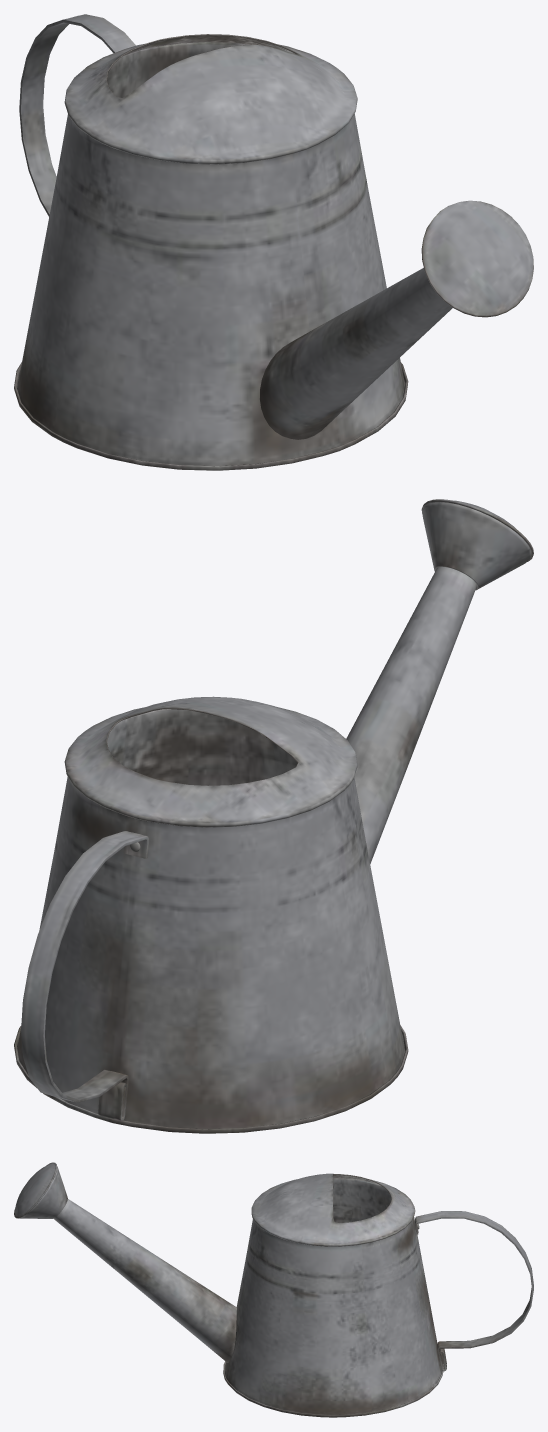
Rendered from watering_can_metal_01.glb.
The picture shows the model from 3 angles, top to bottom: view 1: azimuth 30°, elevation 25°; view 2: azimuth 150°, elevation 25°; view 3: azimuth 270°, elevation 25°; orthographic projection. The views are drawn at different scales.
Visible parts, largest first — view 1: watering_can_metal_01; view 2: watering_can_metal_01; view 3: watering_can_metal_01.
Part boxes in pixels (x1,y1,x2,y2): watering_can_metal_01: [14, 14, 533, 470]; watering_can_metal_01: [14, 499, 533, 1133]; watering_can_metal_01: [14, 1162, 533, 1417].
Bounding box in the file's own units: 0.191 × 0.1968 × 0.4523.
Materials: 1 (1 with a texture image).
